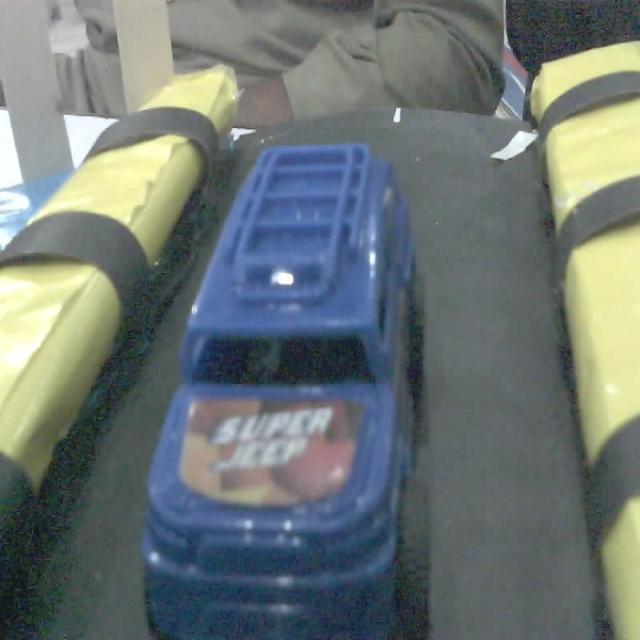OneCar: (145, 111, 469, 636)
